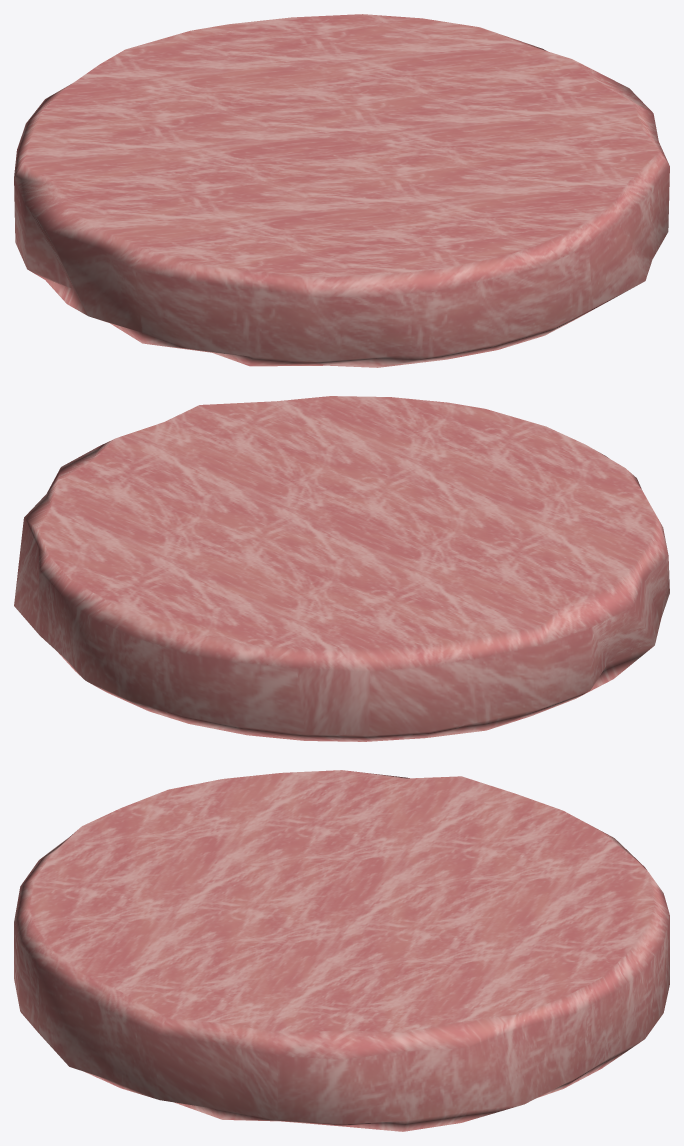
Rendered from MeatUncooked.fbx.
3 views of the same model, one above another, from view 1: azimuth 30°, elevation 25°; view 2: azimuth 150°, elevation 25°; view 3: azimuth 270°, elevation 25° (orthographic). The views are drawn at different scales.
Visible parts, largest first — view 1: Uncooked meat patty; view 2: Uncooked meat patty; view 3: Uncooked meat patty.
Part boxes in pixels (x1,y1,x2,y2): Uncooked meat patty: [14, 14, 669, 367]; Uncooked meat patty: [14, 396, 669, 741]; Uncooked meat patty: [14, 770, 669, 1131].
Bounding box in the file's own units: 22.36 × 3.39 × 21.59.
